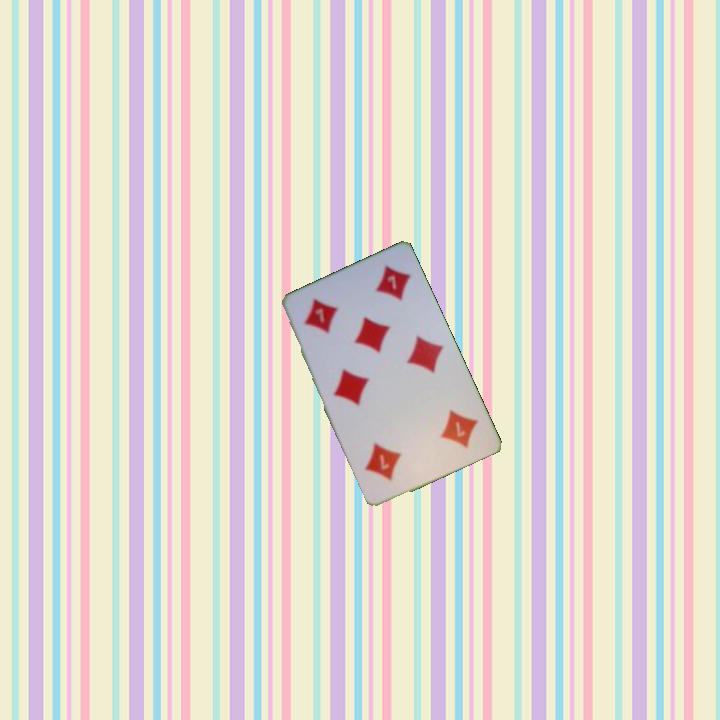d_7.png: (287, 278, 371, 357), (407, 392, 490, 471)
